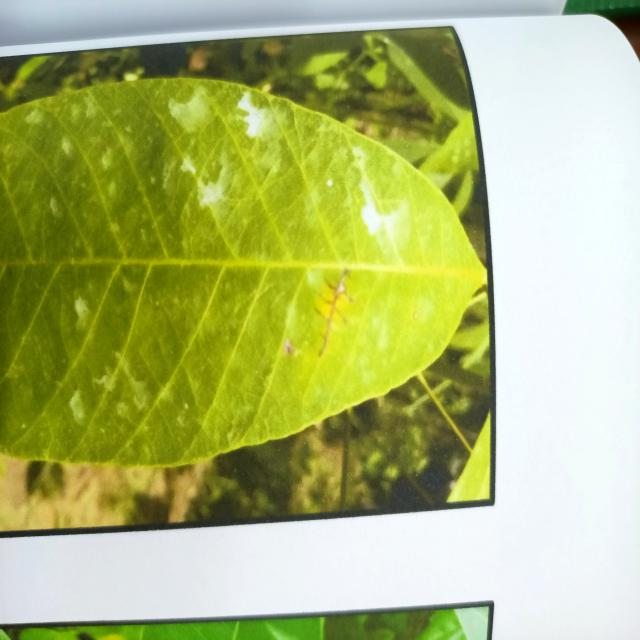Corynespora: (314, 269, 354, 358)
